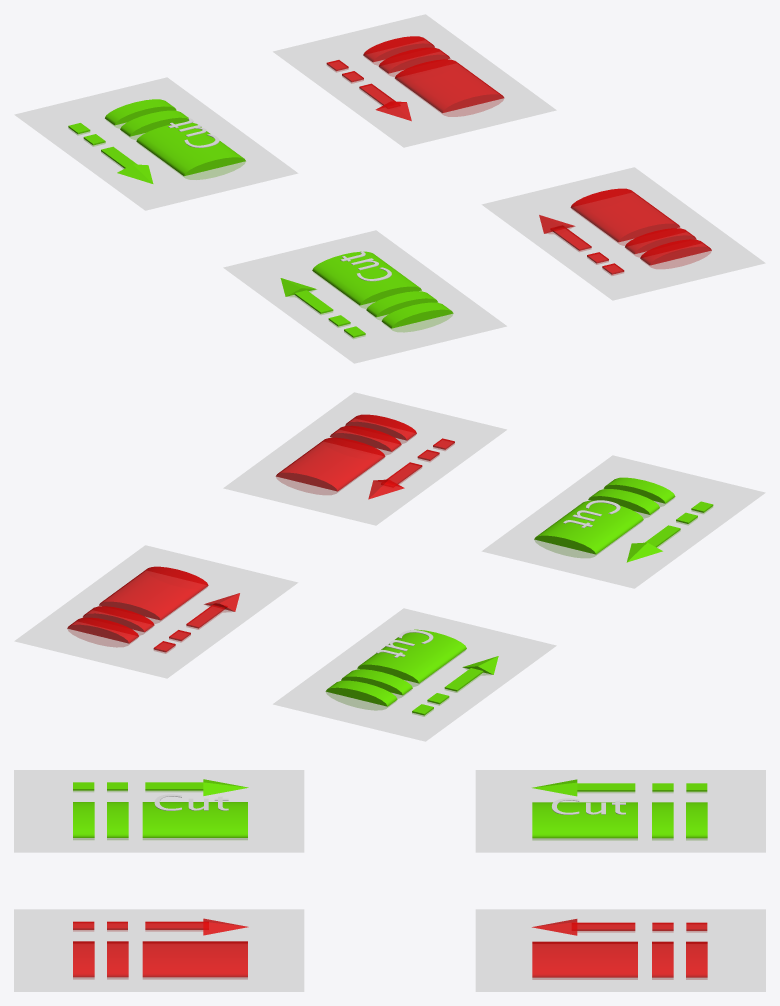
The model's file is Direction_signs.fbx.
3 views of the same model, one above another, from view 1: azimuth 30°, elevation 25°; view 2: azimuth 150°, elevation 25°; view 3: azimuth 270°, elevation 25° (orthographic). The views are drawn at different scales.
Parts seen in each view (by area): view 1: polySurface54, polySurface42, polySurface53, polySurface31; view 2: polySurface53, polySurface31, polySurface54, polySurface42; view 3: polySurface53, polySurface54, polySurface42, polySurface31.
Part boxes in pixels (bbox=[...]): polySurface54: bbox=[481, 167, 765, 300]; polySurface42: bbox=[14, 77, 298, 210]; polySurface53: bbox=[273, 14, 556, 147]; polySurface31: bbox=[223, 230, 506, 363]; polySurface53: bbox=[14, 545, 298, 678]; polySurface31: bbox=[481, 455, 765, 588]; polySurface54: bbox=[223, 392, 506, 525]; polySurface42: bbox=[273, 608, 556, 741]; polySurface53: bbox=[475, 909, 765, 991]; polySurface54: bbox=[14, 909, 304, 991]; polySurface42: bbox=[475, 770, 765, 852]; polySurface31: bbox=[14, 770, 304, 852].
Bounding box in the file's own units: 42.85 × 2.38 × 61.34.
